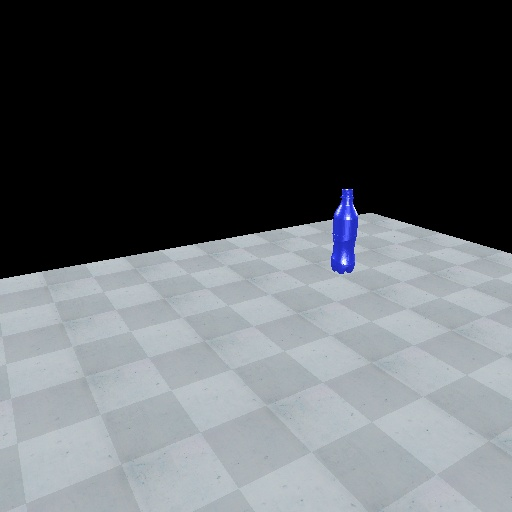bottle: (329, 185, 359, 276)
